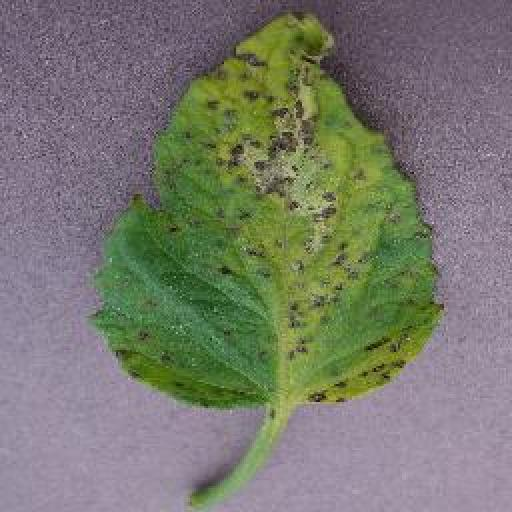disease_tomato: (95, 11, 444, 413)
